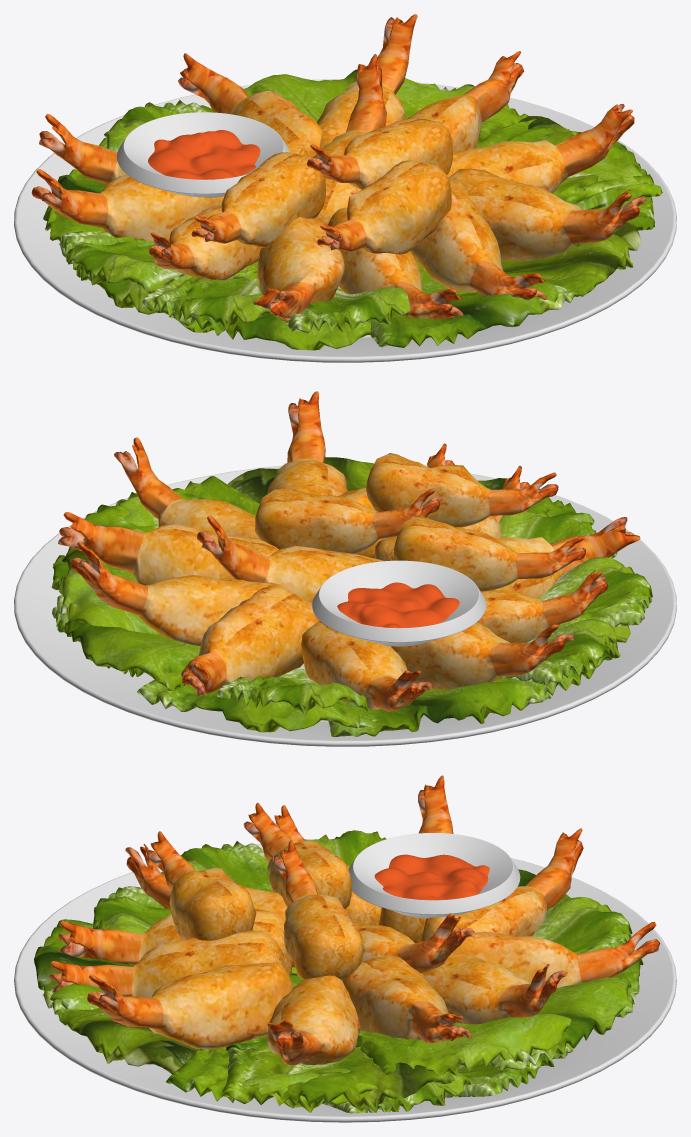
The model's file is Prawns.glb.
3 views of the same model, one above another, from view 1: azimuth 30°, elevation 25°; view 2: azimuth 150°, elevation 25°; view 3: azimuth 270°, elevation 25° (orthographic).
Parts seen in each view (by area): view 1: Prawns; view 2: Prawns; view 3: Prawns.
Boxes of the visible parts, bbox=[...] form: Prawns: bbox=[14, 14, 676, 362]; Prawns: bbox=[14, 391, 676, 746]; Prawns: bbox=[14, 775, 676, 1122].
Size of the model in its own units: 0.2402 by 0.0683 by 0.2402.
Materials: 4 (2 with a texture image).
